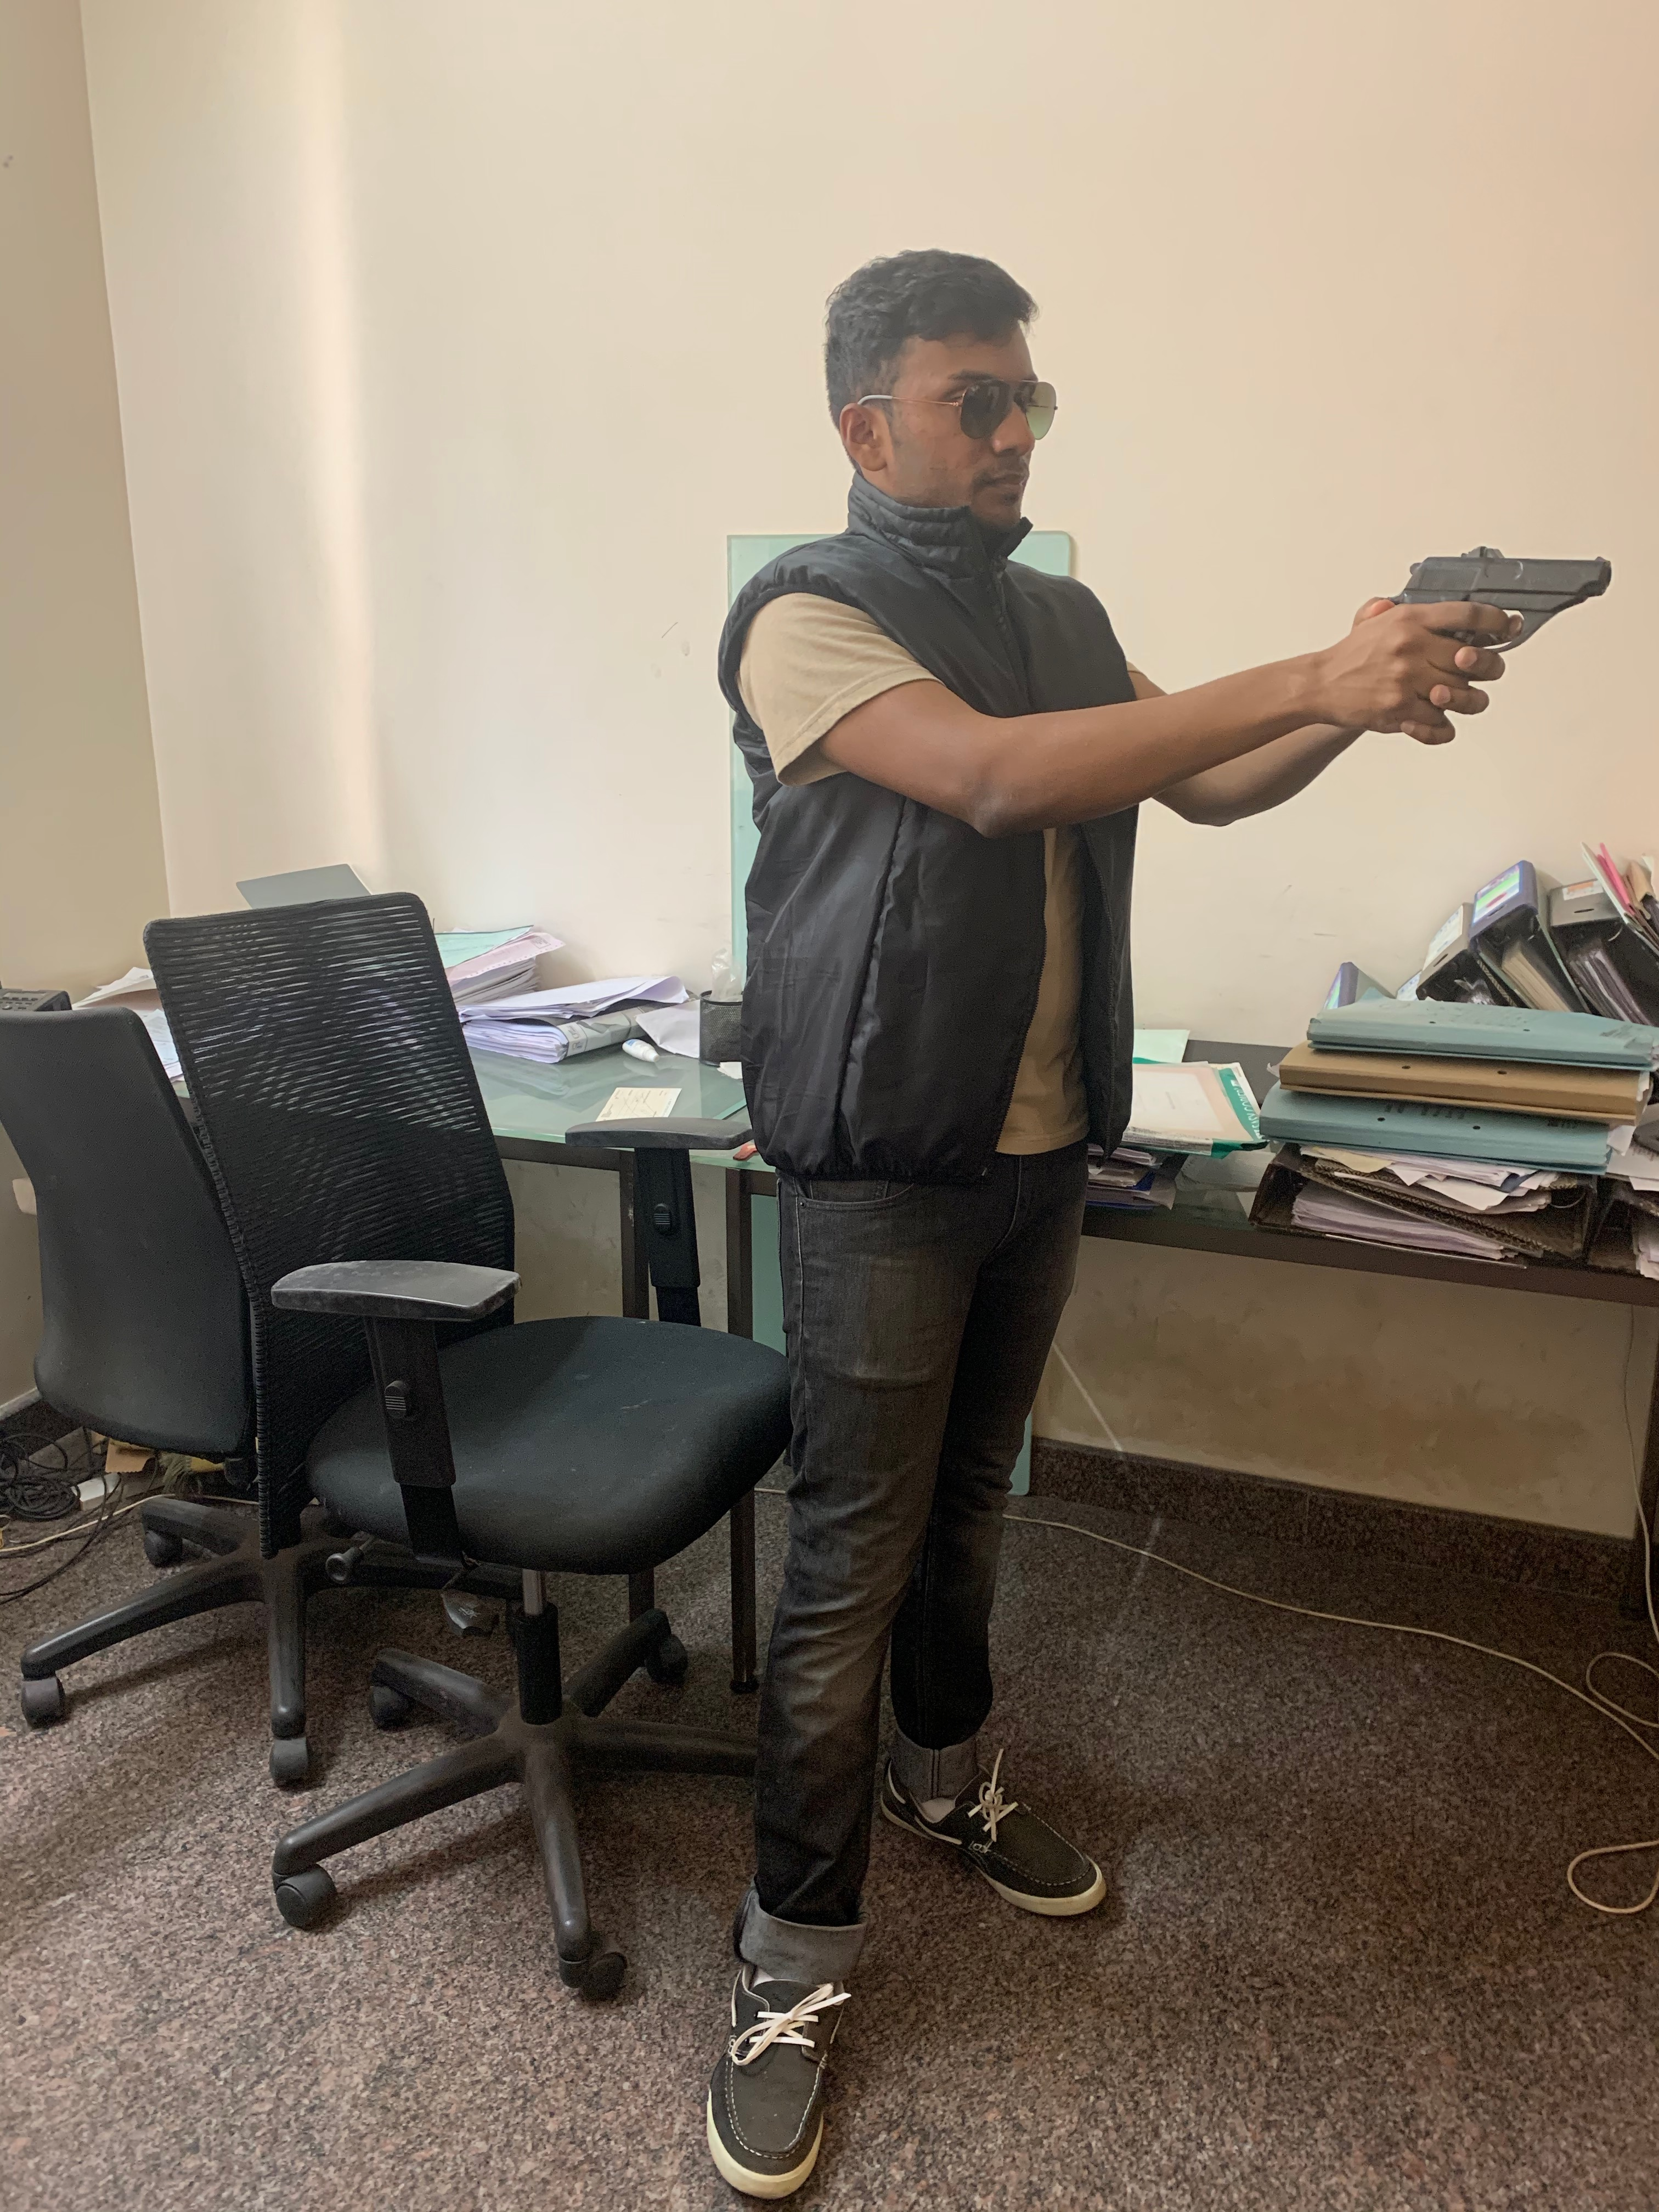gun: (1394, 540, 1621, 712)
